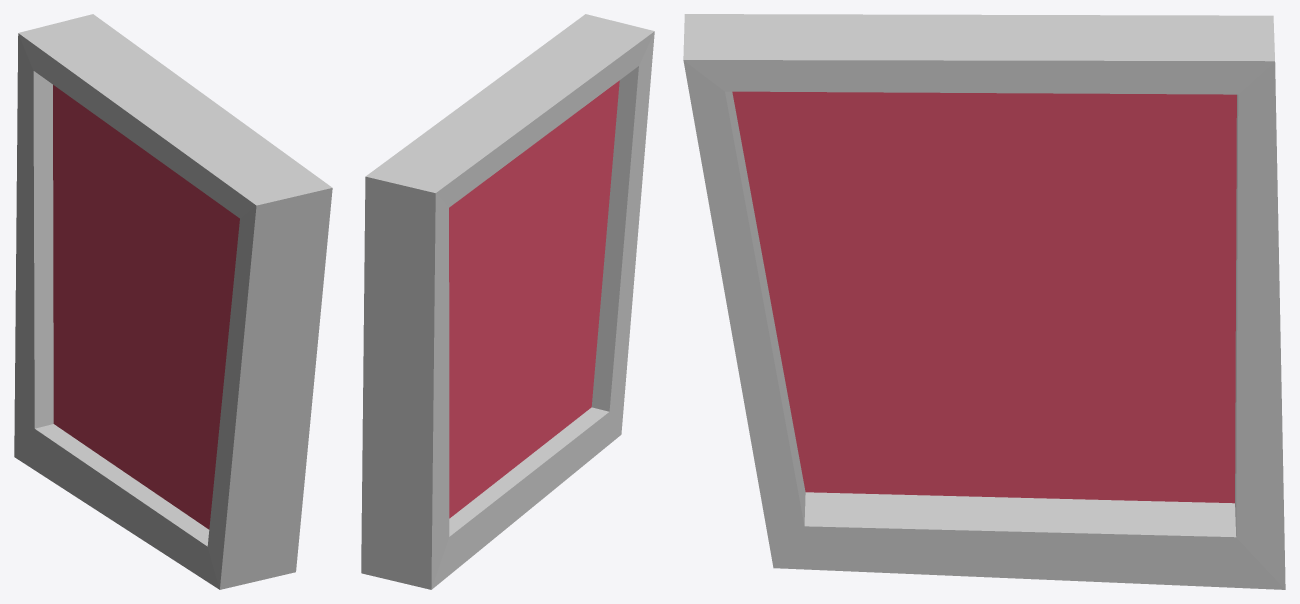
File: MS_Frame8.fbx
3 views of the same model, side by side, from view 1: azimuth 30°, elevation 25°; view 2: azimuth 150°, elevation 25°; view 3: azimuth 270°, elevation 25° (orthographic). The views are drawn at different scales.
Parts seen in each view (by area): view 1: Plane.003; view 2: Plane.003; view 3: Plane.003.
Boxes of the visible parts, x1=… form: Plane.003: x1=14, y1=14, x2=332, y2=589; Plane.003: x1=361, y1=14, x2=654, y2=589; Plane.003: x1=683, y1=14, x2=1285, y2=589.
Size of the model in its own units: 4.66 by 24.98 by 25.7.
